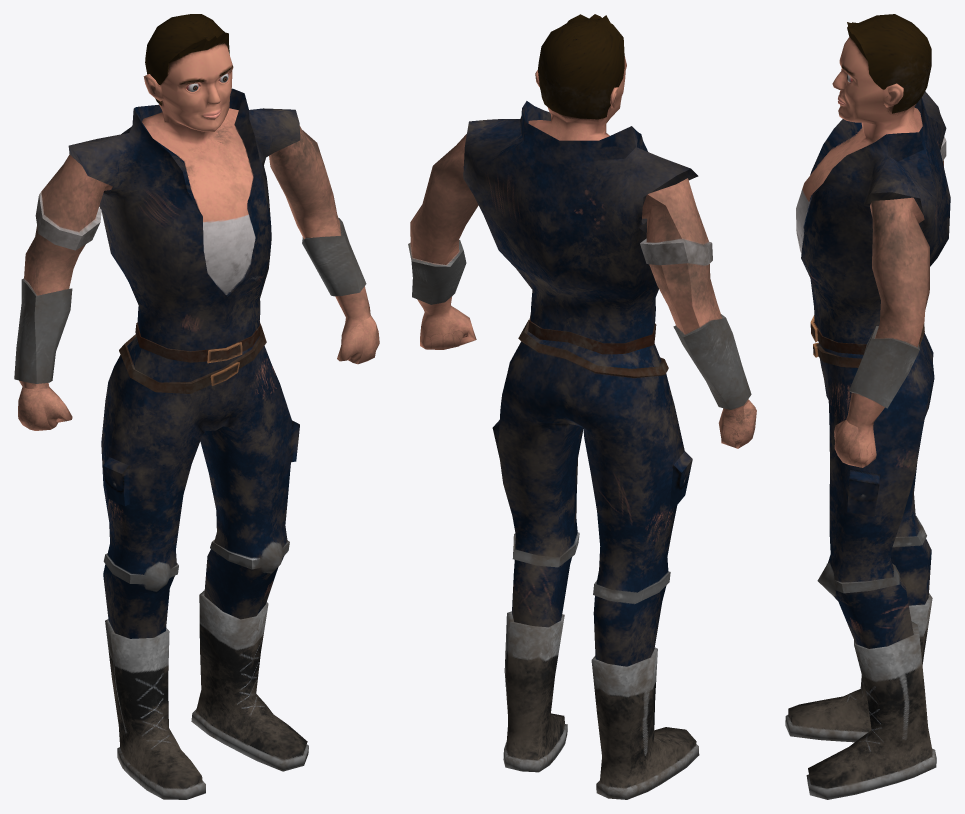
File: Anim_abrir_puerta_ok_jugador.0039.obj
3 views of the same model, side by side, from view 1: azimuth 30°, elevation 25°; view 2: azimuth 150°, elevation 25°; view 3: azimuth 270°, elevation 25° (orthographic).
Visible parts, largest first — view 1: polySurface1; view 2: polySurface1; view 3: polySurface1.
Part boxes in pixels (left/top/right/bottom): polySurface1: left=14, top=14, right=379, bottom=799; polySurface1: left=408, top=14, right=756, bottom=799; polySurface1: left=785, top=14, right=950, bottom=799.
Bounding box in the file's own units: 4.69 × 9.7 × 1.97.
